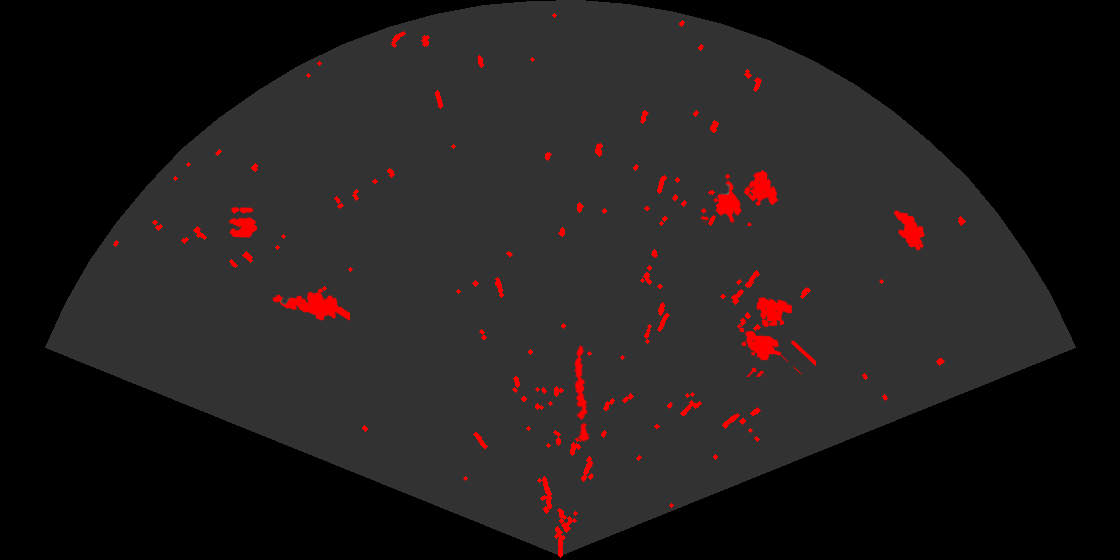AUV: (893, 209, 926, 252)
ball: (227, 206, 259, 239)
cage: (738, 296, 816, 377), (701, 169, 780, 226)
chain: (573, 344, 591, 443)
frogman: (271, 287, 350, 322)
